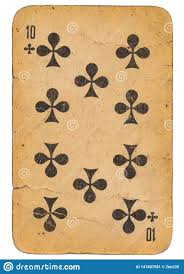ten of clubs: (12, 5, 174, 255)
